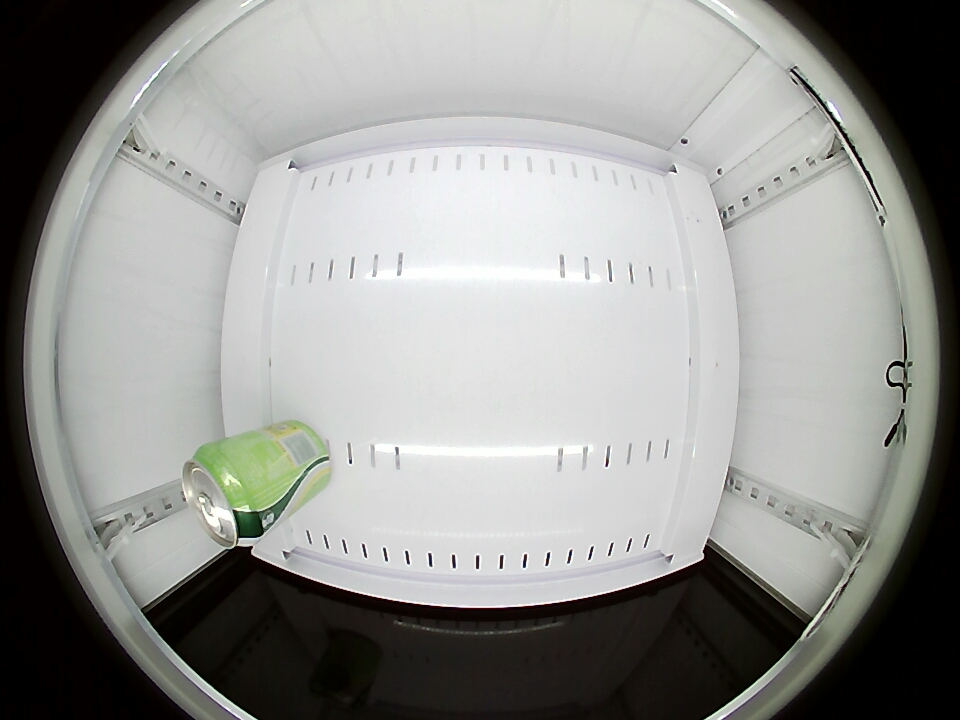quchenshixiangcao: (182, 444, 270, 548)
